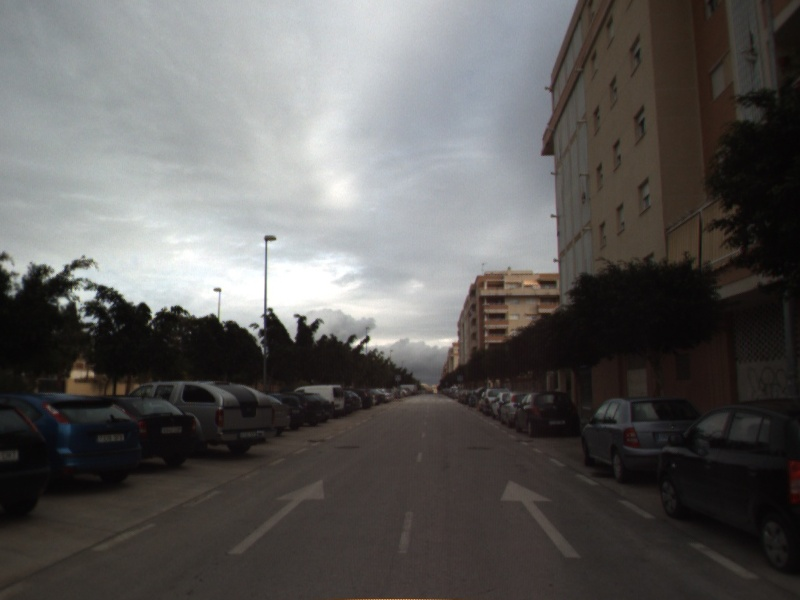STRAIGHT: (226, 478, 326, 556), (498, 477, 582, 559)
